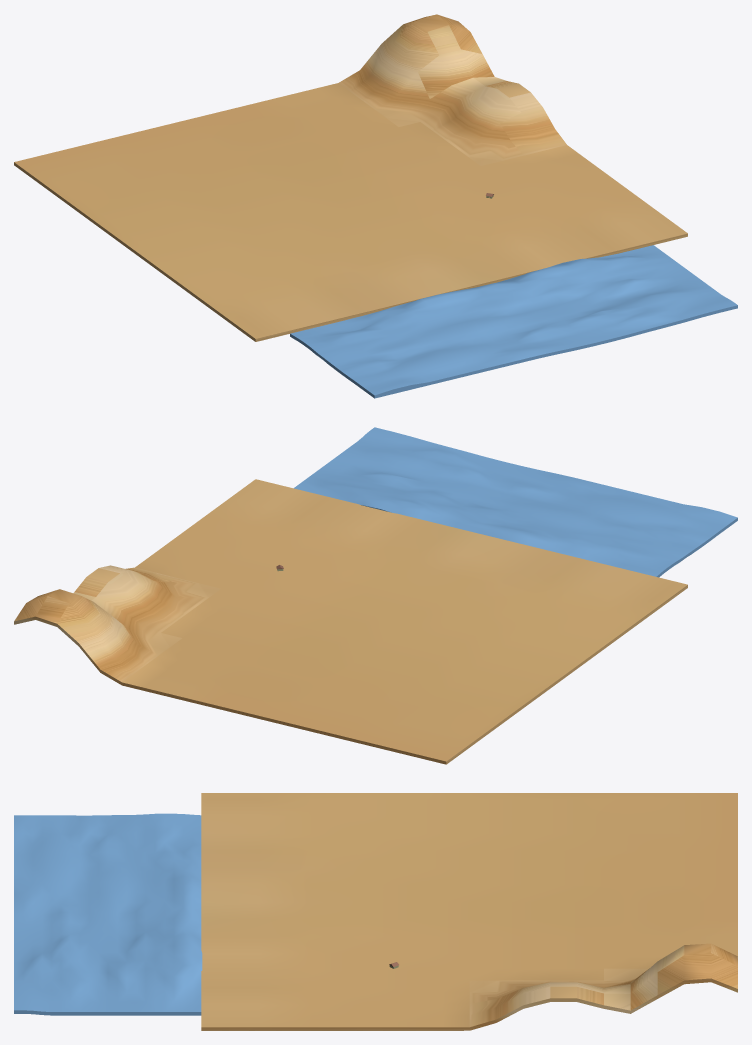
The model's file is Environment.fbx.
The picture shows the model from 3 angles, top to bottom: view 1: azimuth 30°, elevation 25°; view 2: azimuth 150°, elevation 25°; view 3: azimuth 270°, elevation 25°; orthographic projection. The views are drawn at different scales.
Parts seen in each view (by area): view 1: pCube22, Water; view 2: pCube22, Water; view 3: pCube22, Water.
Part boxes in pixels (box(x1,y1,x2,y2)): pCube22: box(14, 14, 687, 341); Water: box(290, 245, 737, 398); pCube22: box(14, 479, 687, 764); Water: box(294, 427, 737, 577); pCube22: box(201, 793, 737, 1030); Water: box(14, 813, 202, 1015).
Bounding box in the file's own units: 1984 × 282 × 2592.
11 materials, 1 textured.
